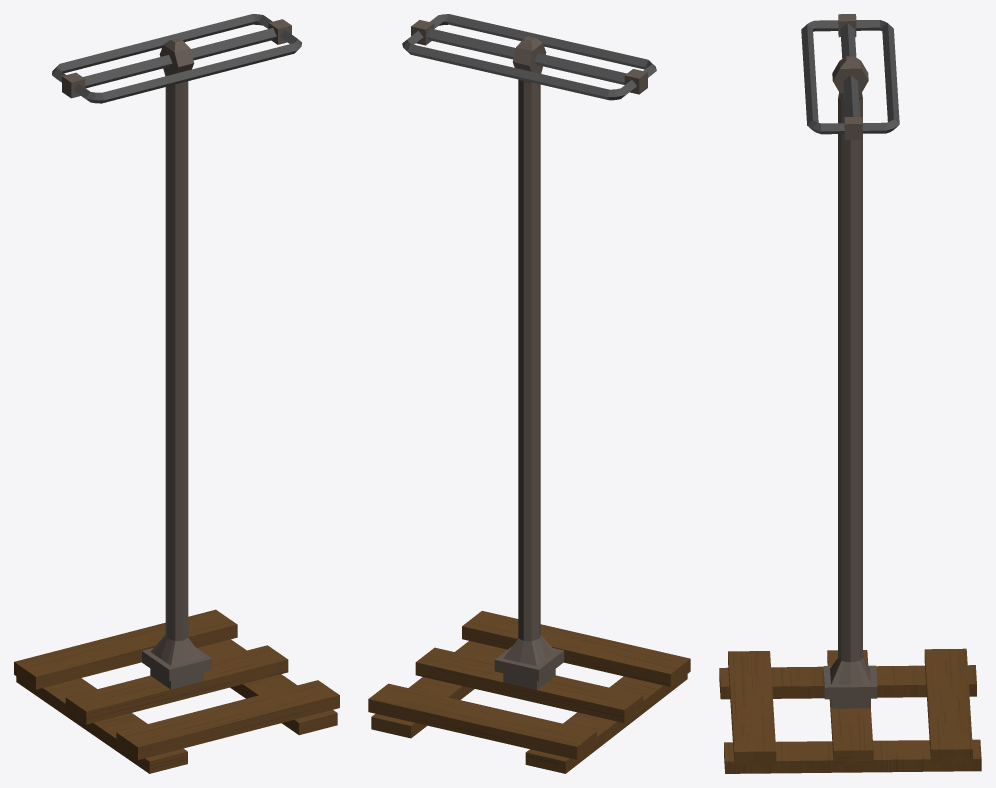
The model's file is BannerRack.fbx.
The picture shows the model from 3 angles, left to right: view 1: azimuth 30°, elevation 25°; view 2: azimuth 150°, elevation 25°; view 3: azimuth 270°, elevation 25°; orthographic projection.
Visible parts, largest first — view 1: BannerRack; view 2: BannerRack; view 3: BannerRack.
Part boxes in pixels (<box>): BannerRack: <box>14,14,339,773</box>; BannerRack: <box>368,14,690,773</box>; BannerRack: <box>719,14,981,773</box>.
Size of the model in its own units: 2055 by 5804 by 2067.
